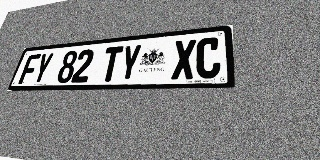2: (71, 49, 95, 83)
8: (55, 50, 80, 83)
C: (195, 37, 221, 79)
F: (18, 54, 41, 84)
T: (99, 46, 124, 82)
X: (171, 39, 196, 80)
Y: (117, 44, 142, 81), (31, 53, 55, 84)
